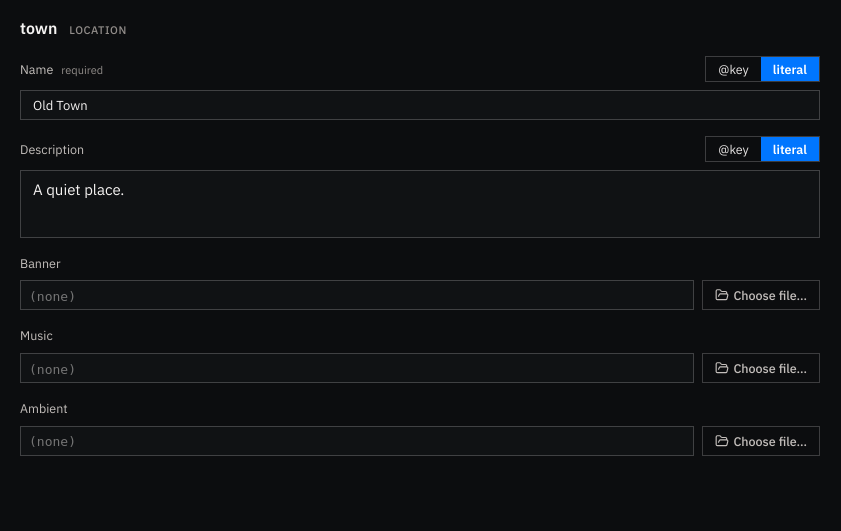
Scenario: EntityForm author journeys › tells the author when the file was deleted instead of silently recreating it
This screenshot has width=841, height=531.
Replace the text in the field showing "Old Town" with "My Town": [420, 105] box [20, 90, 820, 120]
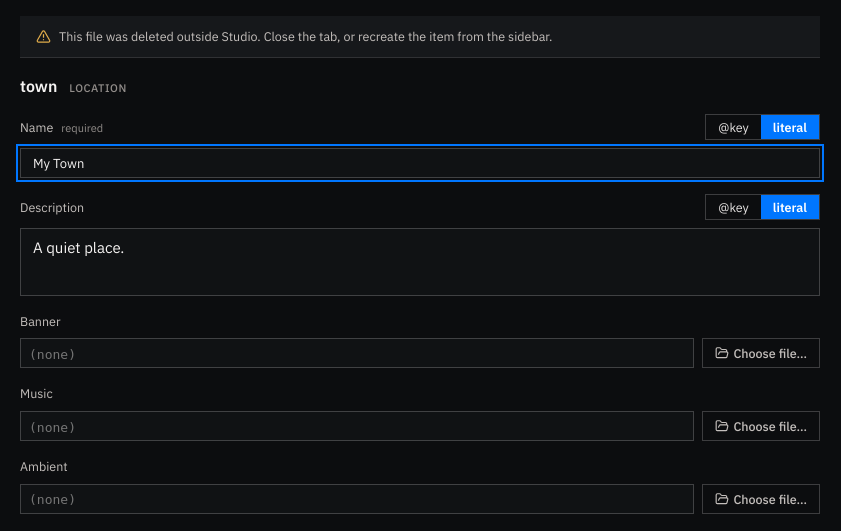
Expected: the text "deleted outside Studio" is shown, [59, 28, 552, 44]
